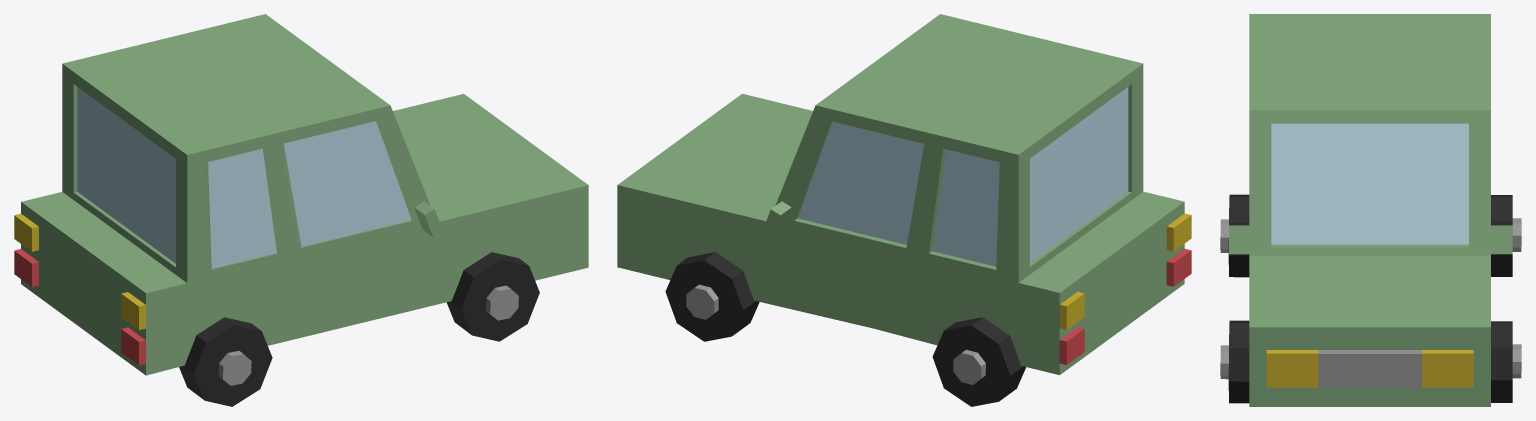
The model's file is car.fbx.
3 views of the same model, side by side, from view 1: azimuth 30°, elevation 25°; view 2: azimuth 150°, elevation 25°; view 3: azimuth 270°, elevation 25° (orthographic). The views are drawn at different scales.
Parts seen in each view (by area): view 1: Cube.001, roda2.002, roda2.001; view 2: Cube.001, Cylinder.002, Cylinder.001, roda1; view 3: Cube.001, roda2.001, Cylinder.001, Cylinder.002, roda2.002, roda1.
Boxes of the visible parts, <box> form: Cube.001: <box>14,14,588,375</box>; roda2.002: <box>179,317,272,406</box>; roda2.001: <box>446,252,539,341</box>; Cube.001: <box>617,14,1191,375</box>; Cylinder.002: <box>932,317,1026,406</box>; Cylinder.001: <box>665,254,758,341</box>; roda1: <box>678,252,759,330</box>; Cube.001: <box>1229,14,1512,406</box>; roda2.001: <box>1220,320,1249,403</box>; Cylinder.001: <box>1491,321,1521,402</box>; Cylinder.002: <box>1491,195,1521,276</box>; roda2.002: <box>1220,194,1249,277</box>; roda1: <box>1491,321,1520,402</box>.
Bounding box in the file's own units: 423 × 223 × 249.
